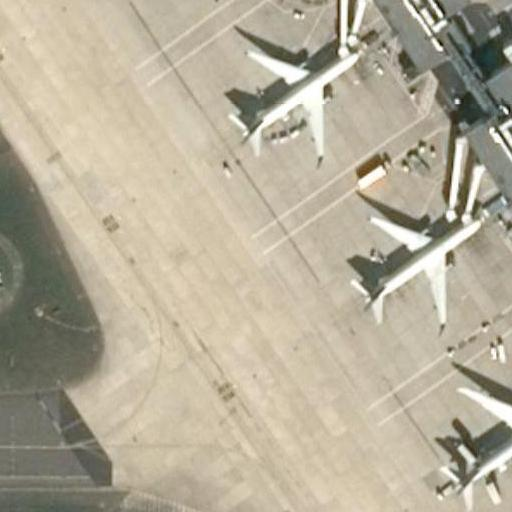Aircraft: (221, 31, 366, 156), (343, 200, 486, 326), (428, 370, 512, 512)
